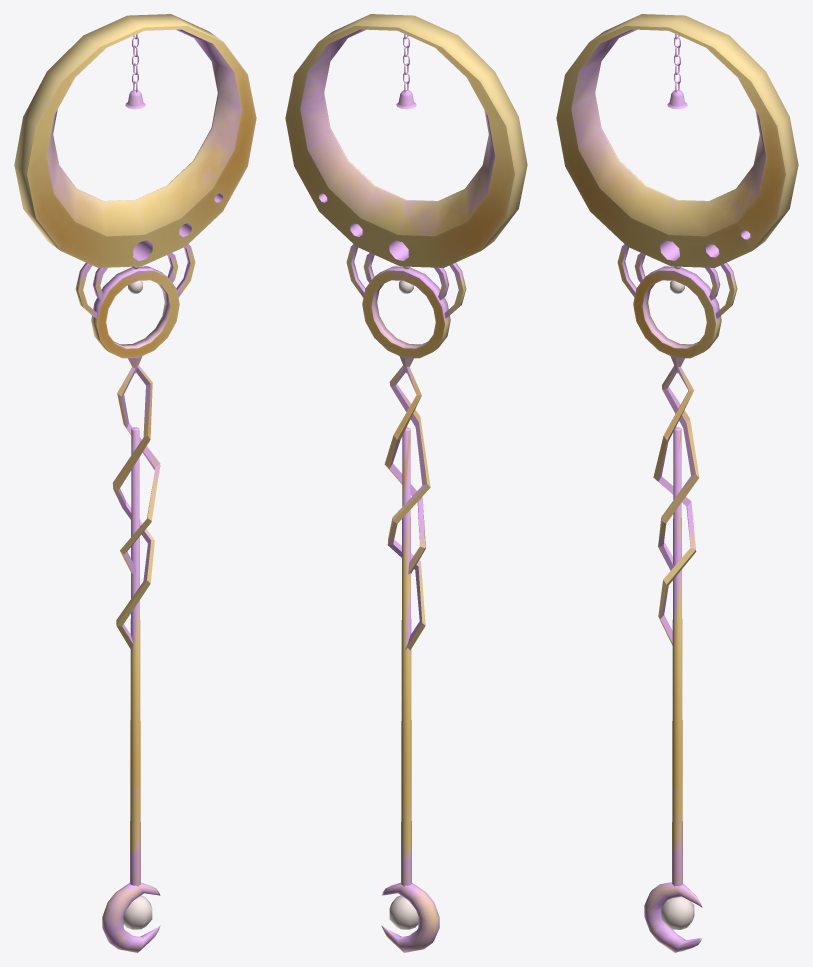
File: wizards_staff.glb
The picture shows the model from 3 angles, left to right: view 1: azimuth 30°, elevation 25°; view 2: azimuth 150°, elevation 25°; view 3: azimuth 330°, elevation 25°; orthographic projection.
Visible parts, largest first — view 1: Cube; view 2: Cube; view 3: Cube.
Part boxes in pixels (left/top/right/bottom): Cube: left=14, top=14, right=256, bottom=952; Cube: left=285, top=14, right=527, bottom=952; Cube: left=556, top=14, right=798, bottom=952.
Bounding box in the file's own units: 0.4924 × 1.91 × 0.1103.
1 material, 1 textured.
